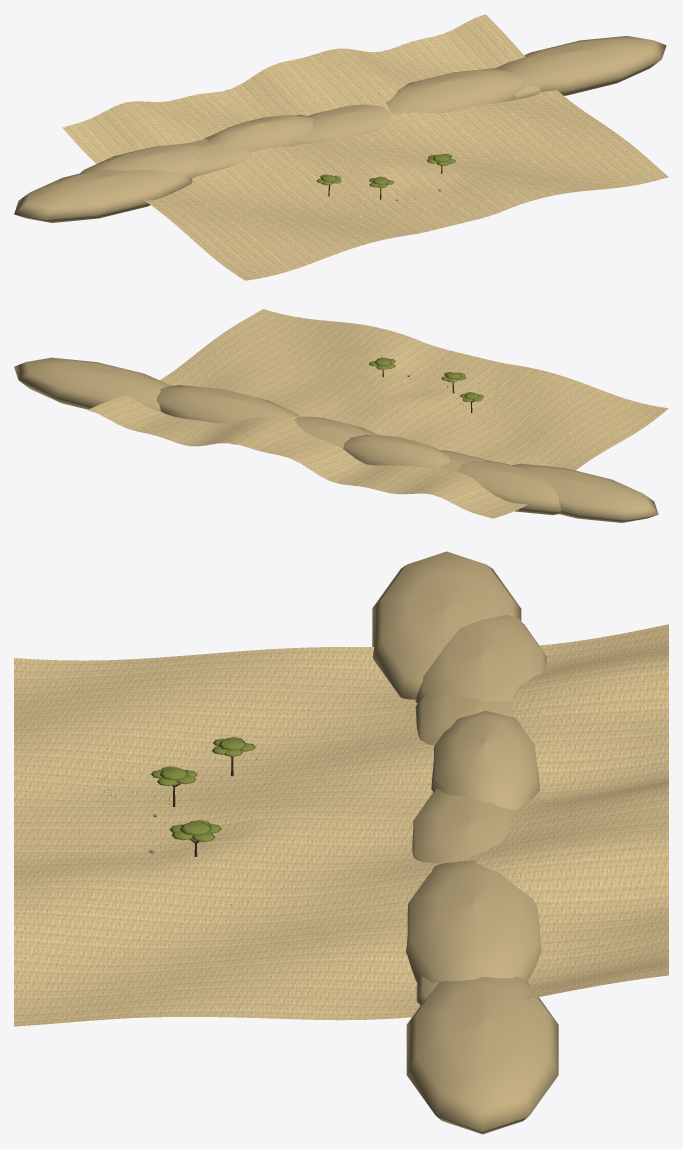
Rendered from sahel.glb.
The picture shows the model from 3 angles, top to bottom: view 1: azimuth 30°, elevation 25°; view 2: azimuth 150°, elevation 25°; view 3: azimuth 270°, elevation 25°; orthographic projection. The views are drawn at different scales.
Visible parts, largest first — view 1: sol, decor; view 2: sol, decor; view 3: sol, decor.
Boxes of the visible parts, bbox=[...] form: sol: bbox=[62, 14, 668, 280]; decor: bbox=[14, 35, 666, 223]; sol: bbox=[87, 309, 668, 518]; decor: bbox=[14, 357, 658, 522]; sol: bbox=[14, 624, 668, 1026]; decor: bbox=[93, 551, 558, 1134].
Size of the model in its own units: 188 by 12.72 by 90.
6 materials, 1 textured.
